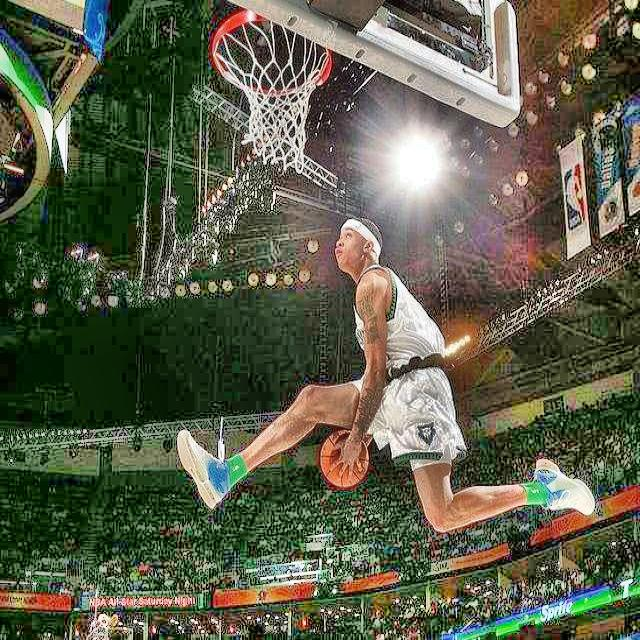rim: (212, 12, 334, 168)
